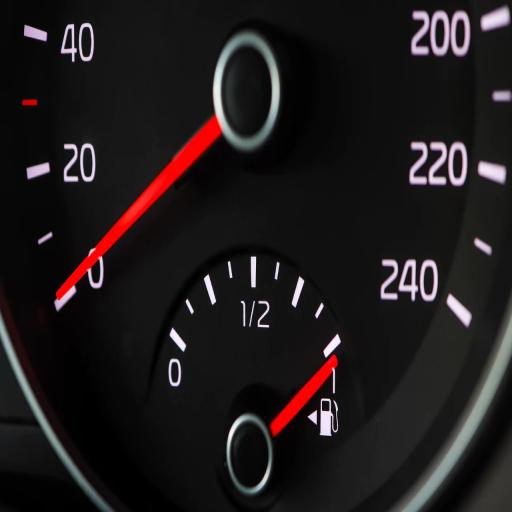empty: (163, 350, 182, 394)
fuel_icon: (320, 398, 342, 438)
full: (328, 364, 340, 392)
guage_area: (149, 256, 357, 512)
needle_center: (221, 398, 275, 504)
needle_tip: (325, 354, 345, 377)
